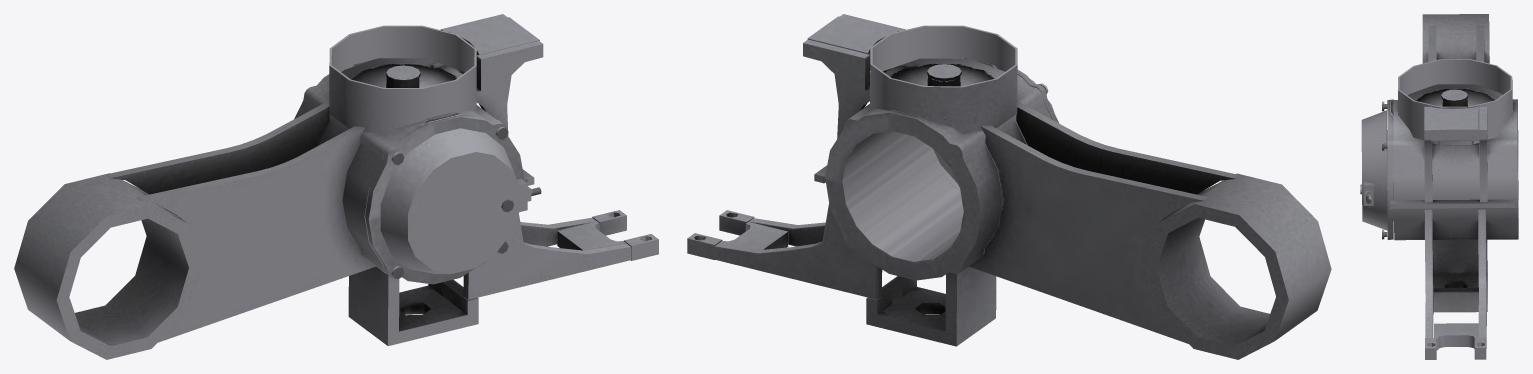
Rendered from duangai004.FBX.
3 renders of one model, left to right at view 1: azimuth 30°, elevation 25°; view 2: azimuth 150°, elevation 25°; view 3: azimuth 270°, elevation 25°, orthographic. The views are drawn at different scales.
Visible parts, largest first — view 1: Object018; view 2: Object018; view 3: Object018.
Boxes of the visible parts, x1,y1,x2,y2 form: Object018: (14, 14, 658, 359); Object018: (687, 14, 1331, 359); Object018: (1360, 14, 1518, 359).
Size of the model in its own units: 0.8398 by 0.3559 by 0.2453.
